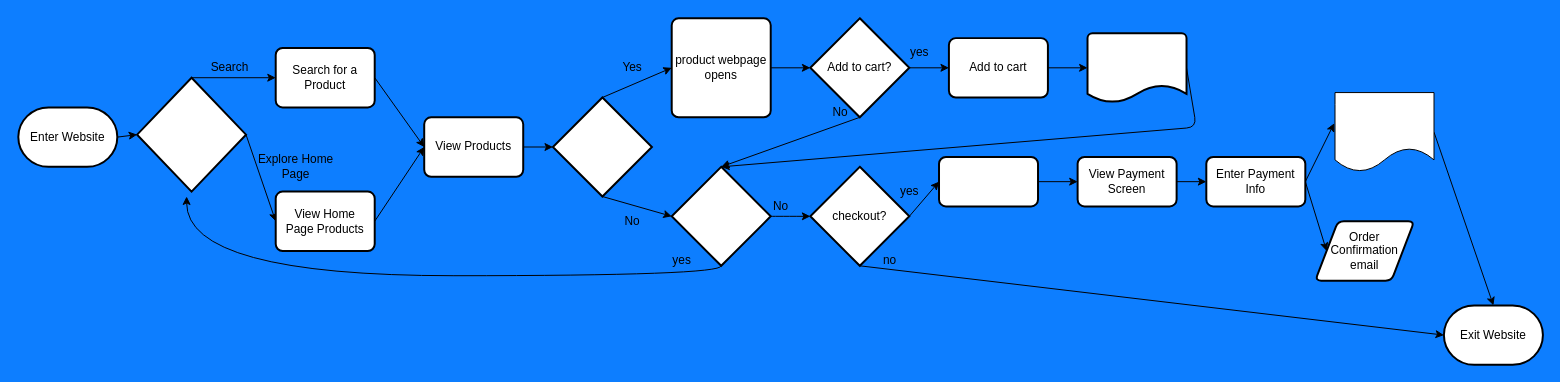
Some shapes in this 1560 by 382 pixel diagram are drawn without their labels. Each missing label, with the box of its shape:
Confirmation of product added to cart: (1086, 32, 1187, 103)
continue shopping?: (670, 165, 771, 266)
Order Confrimation Page: (1334, 92, 1434, 172)
Search for Product or Explore Home Page: (136, 76, 247, 192)
View Cart: (938, 155, 1039, 207)
View specific product: (551, 96, 652, 197)
